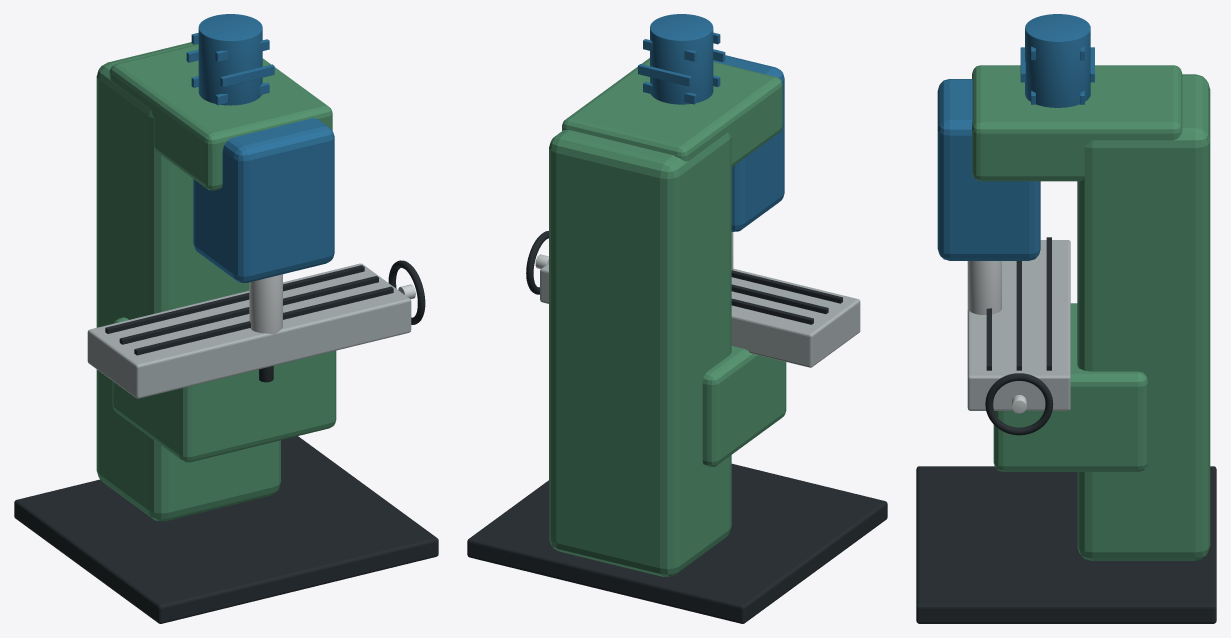
Rendered from vertical_knee_mill.glb.
3 renders of one model, left to right at view 1: azimuth 30°, elevation 25°; view 2: azimuth 150°, elevation 25°; view 3: azimuth 270°, elevation 25°, orthographic. The views are drawn at different scales.
Parts seen in each view (by area): view 1: MACHINE_BASE, MILL_COLUMN, MILLING_HEAD, KIN_X_TABLE, KNEE, RAM, SPINDLE_MOTOR, KIN_SPINDLE, TABLE_T_SLOT_-0.36, TABLE_T_SLOT_-0.08, TABLE_T_SLOT_-0.22, X_HANDWHEEL (+1 smaller); view 2: MILL_COLUMN, MACHINE_BASE, RAM, KIN_X_TABLE, KNEE, SPINDLE_MOTOR, MILLING_HEAD, TABLE_T_SLOT_-0.36, TABLE_T_SLOT_-0.22, TABLE_T_SLOT_-0.08, SPINDLE_MOTOR_FIN_0; view 3: MILL_COLUMN, MACHINE_BASE, RAM, KNEE, KIN_X_TABLE, MILLING_HEAD, SPINDLE_MOTOR, KIN_SPINDLE, X_HANDWHEEL, TABLE_T_SLOT_-0.08, TABLE_T_SLOT_-0.22.
Part boxes in pixels (<box>): MACHINE_BASE: <box>14,436,438,623</box>; MILL_COLUMN: <box>96,42,280,521</box>; MILLING_HEAD: <box>193,118,334,282</box>; KIN_X_TABLE: <box>87,263,411,398</box>; KNEE: <box>112,317,336,462</box>; RAM: <box>109,44,332,190</box>; SPINDLE_MOTOR: <box>198,14,262,105</box>; KIN_SPINDLE: <box>249,274,282,334</box>; TABLE_T_SLOT_-0.36: <box>134,286,393,355</box>; TABLE_T_SLOT_-0.08: <box>105,265,364,333</box>; TABLE_T_SLOT_-0.22: <box>119,276,378,344</box>; X_HANDWHEEL: <box>388,260,425,324</box>; MILL_COLUMN: <box>549,130,731,576</box>; MACHINE_BASE: <box>467,463,887,623</box>; RAM: <box>562,58,782,166</box>; KIN_X_TABLE: <box>540,263,860,367</box>; KNEE: <box>702,346,786,466</box>; SPINDLE_MOTOR: <box>650,14,713,104</box>; MILLING_HEAD: <box>713,55,784,231</box>; TABLE_T_SLOT_-0.36: <box>731,270,842,303</box>; TABLE_T_SLOT_-0.22: <box>731,284,828,313</box>; TABLE_T_SLOT_-0.08: <box>731,298,813,324</box>; SPINDLE_MOTOR_FIN_0: <box>638,64,691,86</box>; MILL_COLUMN: <box>1077,74,1210,560</box>; MACHINE_BASE: <box>916,466,1216,623</box>; RAM: <box>972,65,1182,181</box>; KNEE: <box>993,303,1147,471</box>; KIN_X_TABLE: <box>967,240,1070,410</box>; MILLING_HEAD: <box>937,79,1040,260</box>; SPINDLE_MOTOR: <box>1025,14,1090,107</box>; KIN_SPINDLE: <box>967,261,1001,314</box>; X_HANDWHEEL: <box>985,373,1053,435</box>; TABLE_T_SLOT_-0.08: <box>1046,237,1051,370</box>; TABLE_T_SLOT_-0.22: <box>1016,261,1021,370</box>.
Size of the model in its own units: 1.67 by 2.71 by 1.4.
